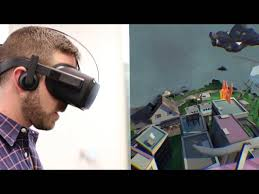oculus: (22, 54, 100, 113)
